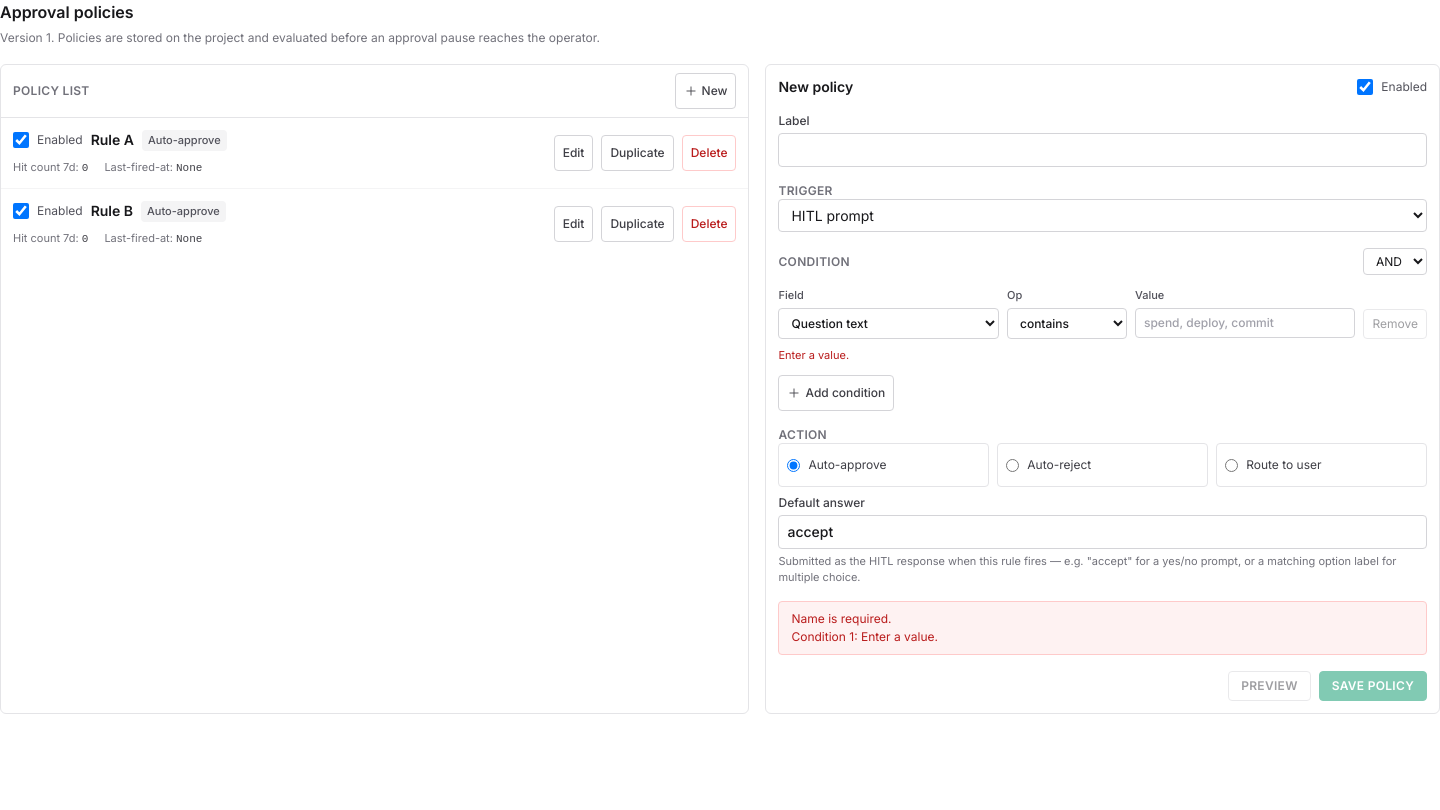
Test: M1 — unsaved-draft guard › clicking Duplicate on another row while editing shows the guard instead of duplicating
Start editing rule A.
Step 1. Click the button "Edit" in the row of "Rule A" → (574, 153), box [554,135,594,171]
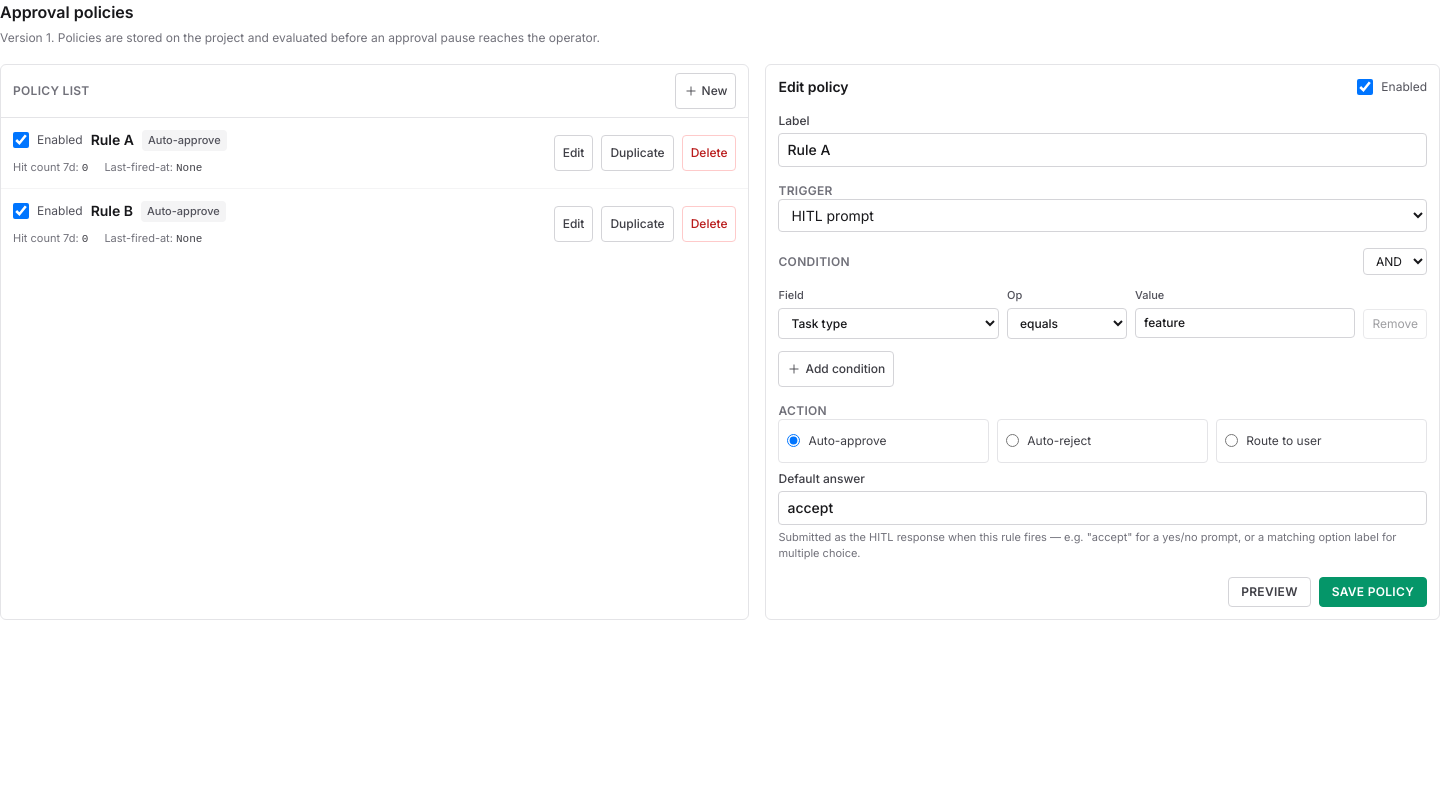
Now the heading "Edit policy" is shown, box [778,77,849,97]
Attempt to duplicate rule B while A's draft is unsaved.
Step 2. Click the button "Duplicate" in the row of "Rule B" → (638, 224), box [602,206,674,242]
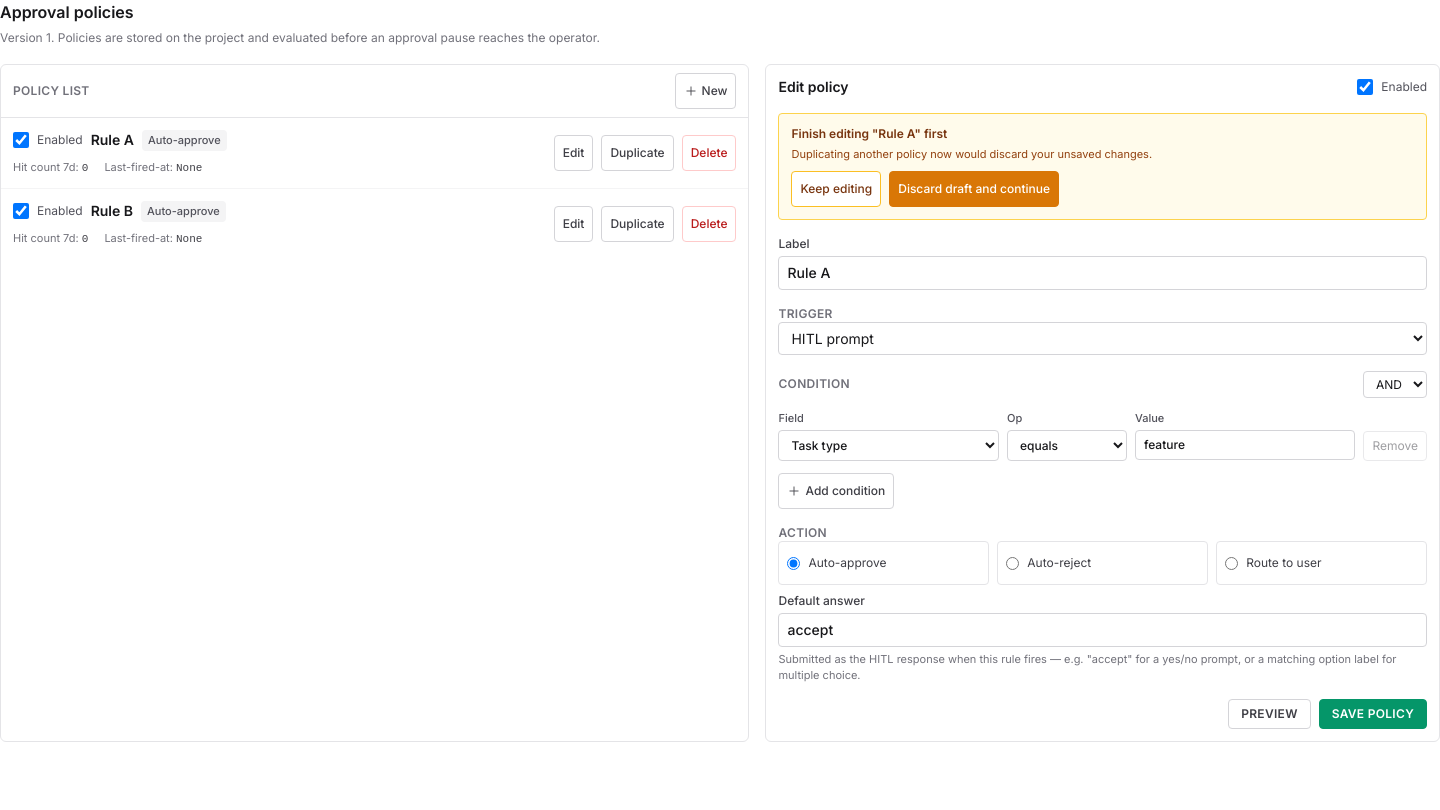
Now the text "Finish editing \"Rule A\" first" is shown, box [792,126,947,141]
